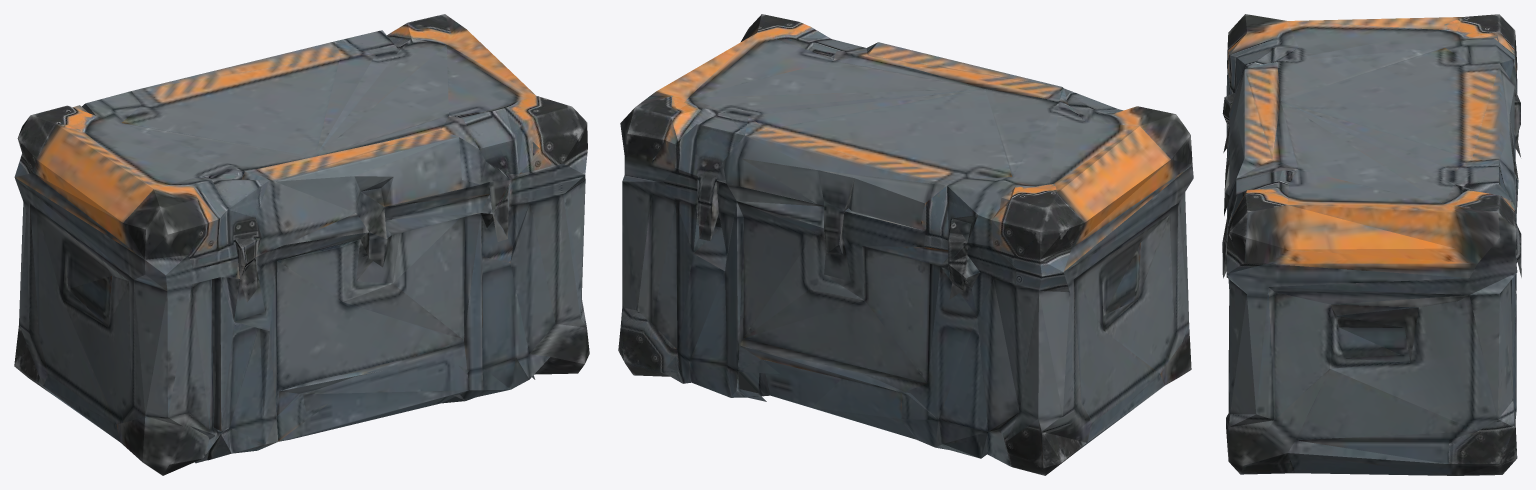
File: crate.glb
3 renders of one model, left to right at view 1: azimuth 30°, elevation 25°; view 2: azimuth 150°, elevation 25°; view 3: azimuth 270°, elevation 25°, orthographic.
Visible parts, largest first — view 1: Mesh_0; view 2: Mesh_0; view 3: Mesh_0.
Part boxes in pixels (x1,y1,x2,y2): Mesh_0: (14, 14, 589, 475); Mesh_0: (618, 14, 1193, 475); Mesh_0: (1222, 14, 1521, 475).
Bounding box in the file's own units: 1.2 × 0.6871 × 0.7056.
Materials: 1 (1 with a texture image).
